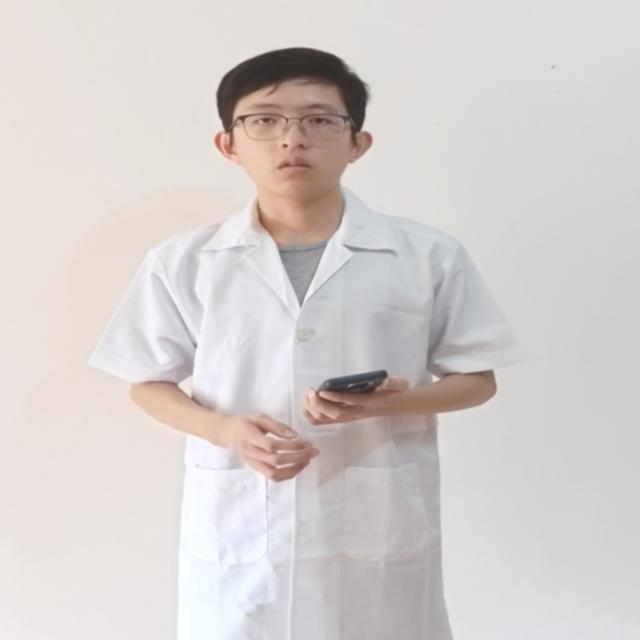person_with_labcoat: (89, 49, 522, 640)
